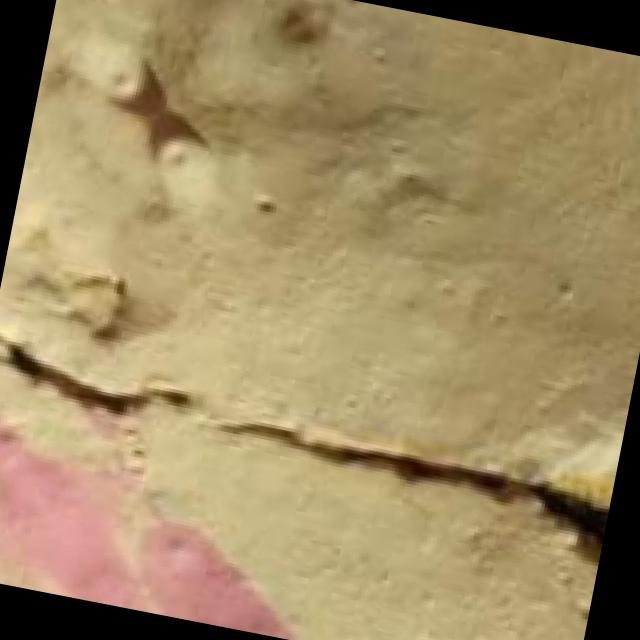crack: (0, 272, 631, 640)
